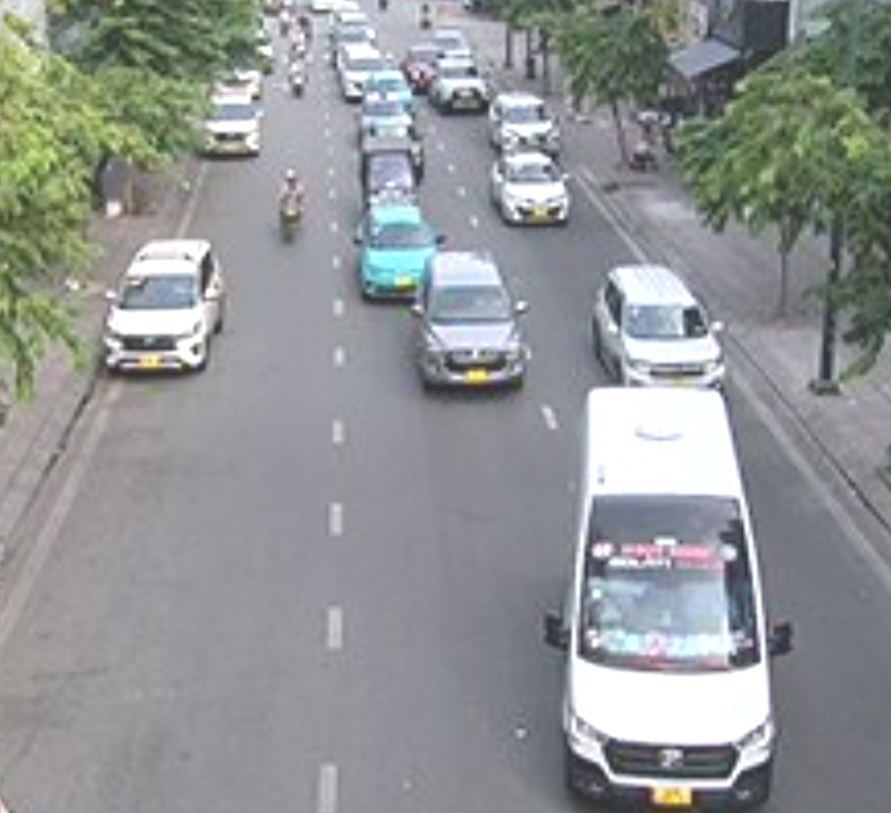car: (562, 386, 776, 807), (589, 267, 735, 387), (103, 237, 221, 373), (421, 254, 528, 395), (362, 201, 436, 304), (489, 155, 573, 224), (484, 94, 561, 150), (198, 92, 262, 158), (429, 61, 486, 115)
